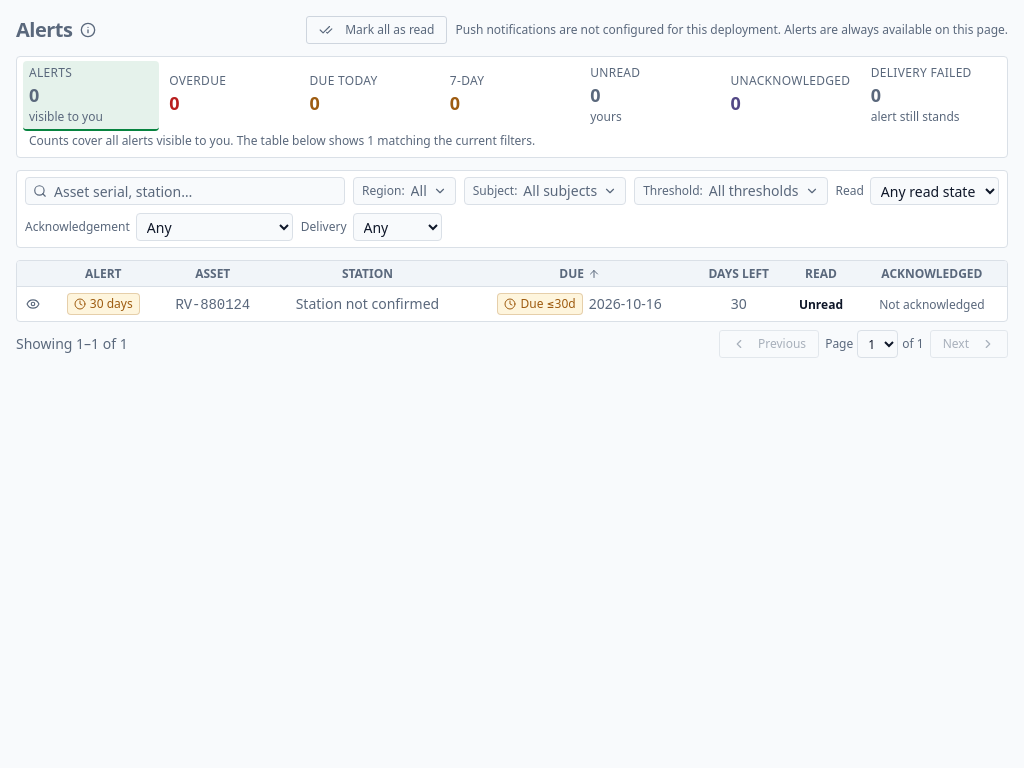
Test: Unresolved-station SRV alerts › offers no Station or Unit link when neither is confirmed
The width and height of the screenshot is (1024, 768).
Check: the text "RV-880124" is shown, box 176,296 -> 250,312
Click the button named "show the full technical record".
click(33, 304)  # box 23,294 -> 43,314
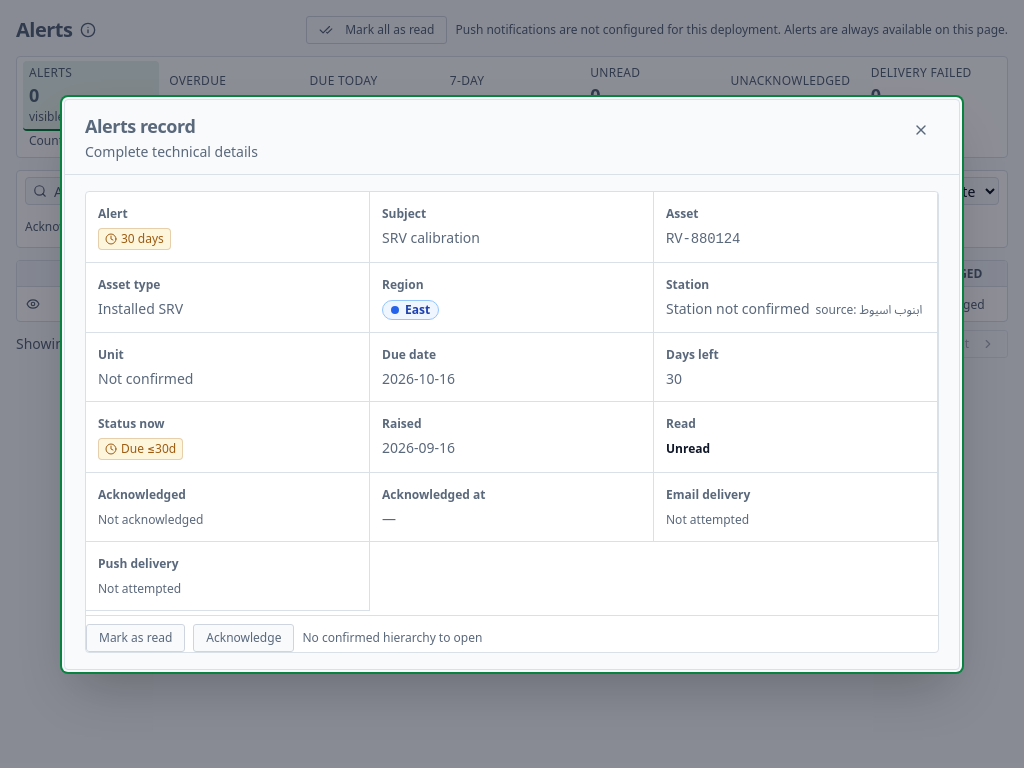
Check: the text "No confirmed hierarchy to open" is shown, box 302,630 -> 482,646
